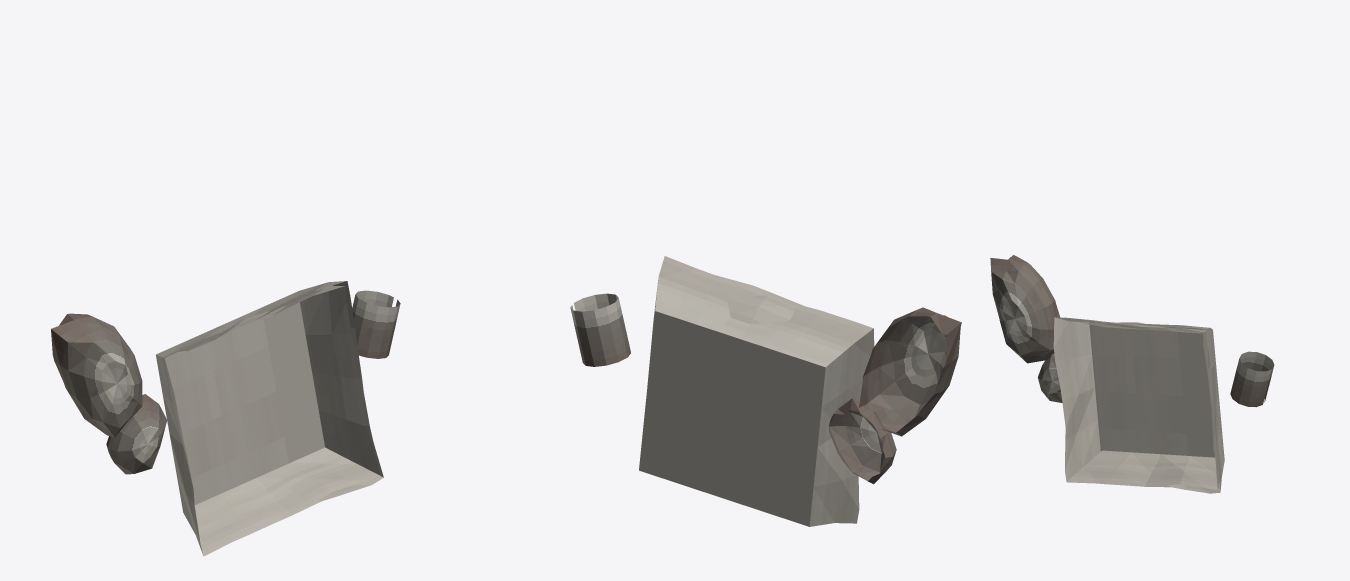
The picture shows the model from 3 angles, left to right: view 1: azimuth 30°, elevation 25°; view 2: azimuth 150°, elevation 25°; view 3: azimuth 330°, elevation 25°; orthographic projection. The views are drawn at different scales.
Bounding box in the file's own units: 0.6643 × 0.8759 × 0.1418.
